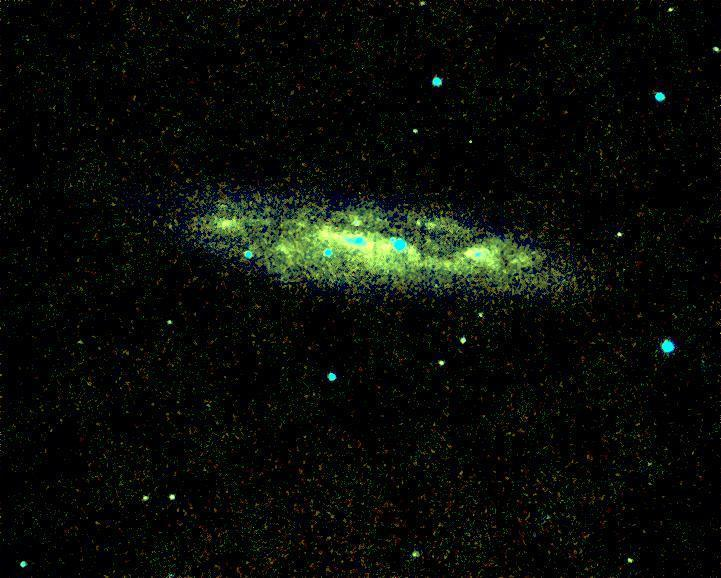star: (454, 131, 484, 161)
